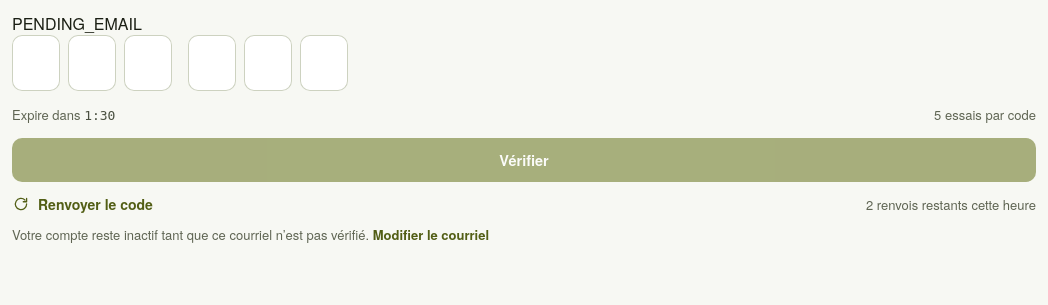
Test: AUTH-14, AUTH-17 : vérification du courriel › ADR 0024 : CODE_EXPIRED au retour du serveur
The width and height of the screenshot is (1048, 305).
Type "111111" into the field named "Code de vérification — 1/6". click: {"x": 36, "y": 63}
box: [12,35,60,91]
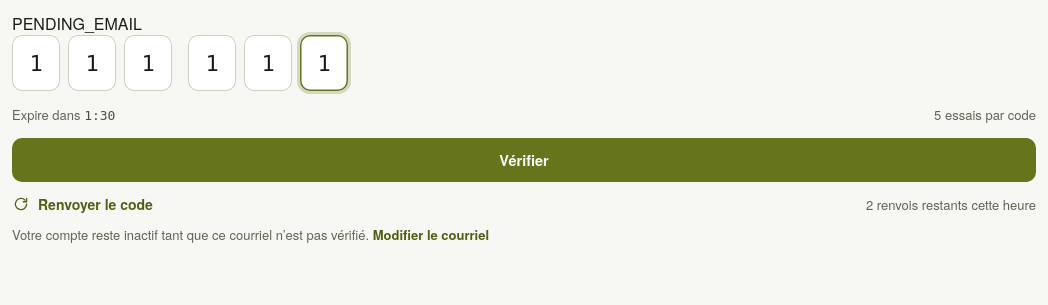
Click the button "Vérifier". click: {"x": 524, "y": 160}
box: [12,138,1036,182]
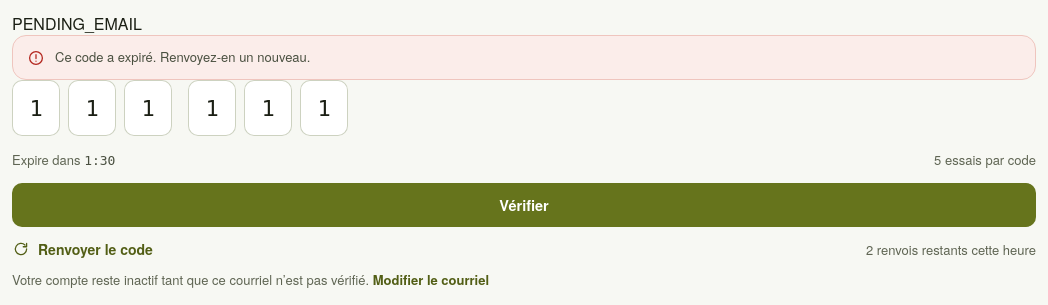
Check: the message reads "Ce code a expiré. Renvoyez-en un nouveau.", box [55,47,310,66]
